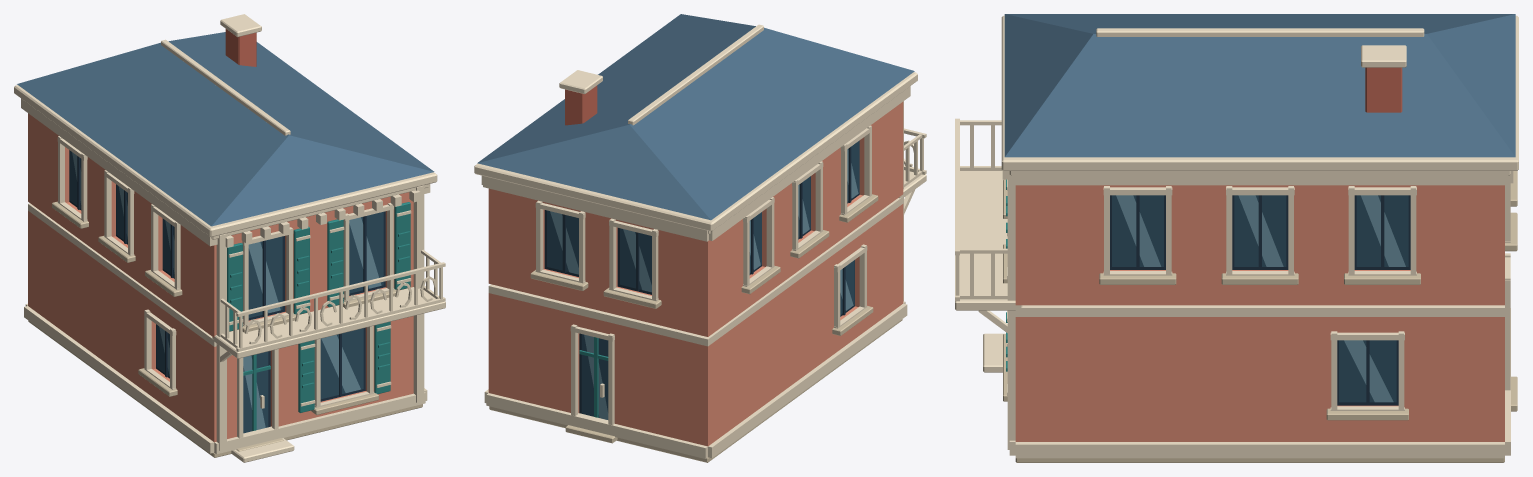
File: coral_row_house.glb
The picture shows the model from 3 angles, left to right: view 1: azimuth 30°, elevation 25°; view 2: azimuth 150°, elevation 25°; view 3: azimuth 270°, elevation 25°; orthographic projection. The views are drawn at different scales.
Parts seen in each view (by area): view 1: CoralRowHouse_StaticMesh; view 2: CoralRowHouse_StaticMesh; view 3: CoralRowHouse_StaticMesh.
Part boxes in pixels (x1,y1,x2,y2): CoralRowHouse_StaticMesh: [14, 14, 445, 462]; CoralRowHouse_StaticMesh: [474, 14, 926, 462]; CoralRowHouse_StaticMesh: [955, 14, 1518, 462].
Bounding box in the file's own units: 6.42 × 7.88 × 10.49.
